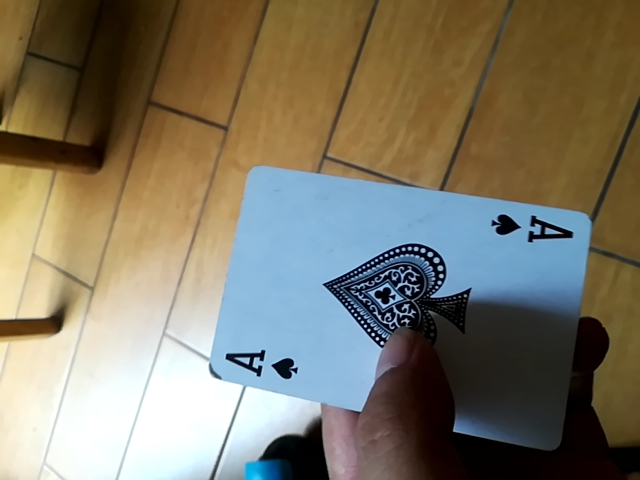ht a: (203, 162, 590, 424)
